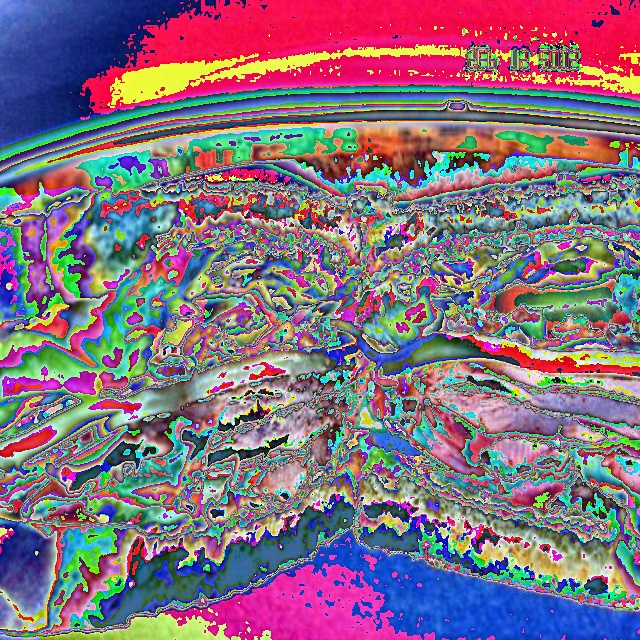background: (0, 172, 640, 638)
